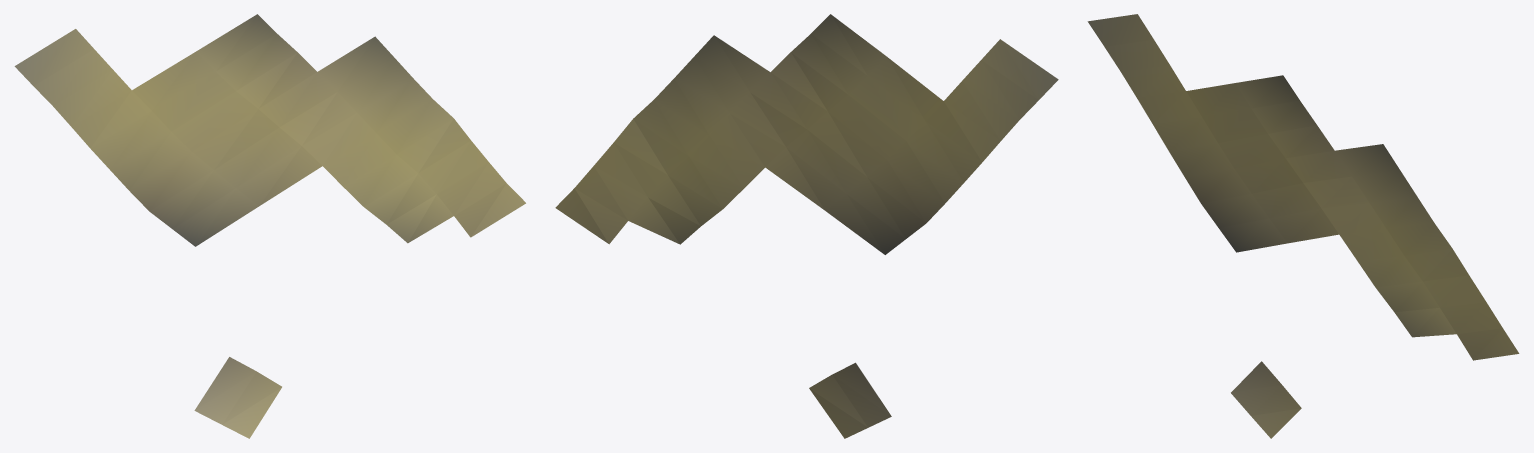
The model's file is entity-floor-marking-24.glb.
3 views of the same model, side by side, from view 1: azimuth 30°, elevation 25°; view 2: azimuth 150°, elevation 25°; view 3: azimuth 330°, elevation 25° (orthographic). The views are drawn at different scales.
Parts seen in each view (by area): view 1: geometry_0; view 2: geometry_0; view 3: geometry_0.
Boxes of the visible parts, x1,y1,x2,y2 form: geometry_0: (14, 14, 525, 438); geometry_0: (555, 14, 1058, 438); geometry_0: (1087, 14, 1519, 438).
Bounding box in the file's own units: 0.1947 × 0.1631 × 0.00793.
